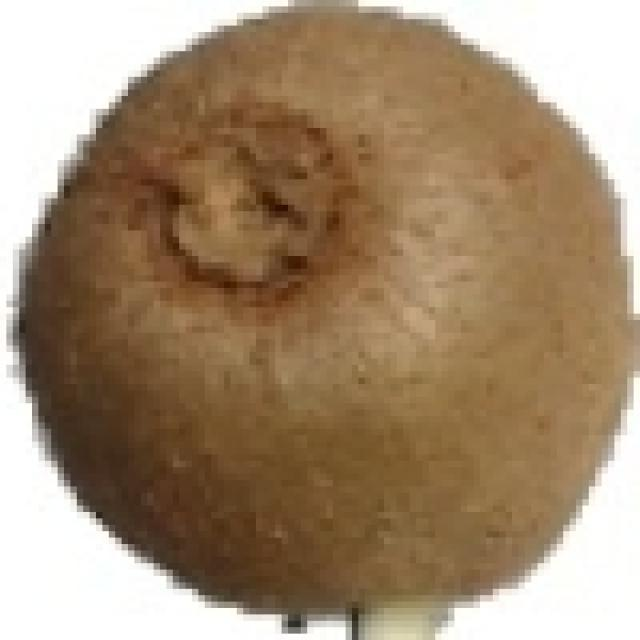kiwi: (20, 6, 631, 634)
